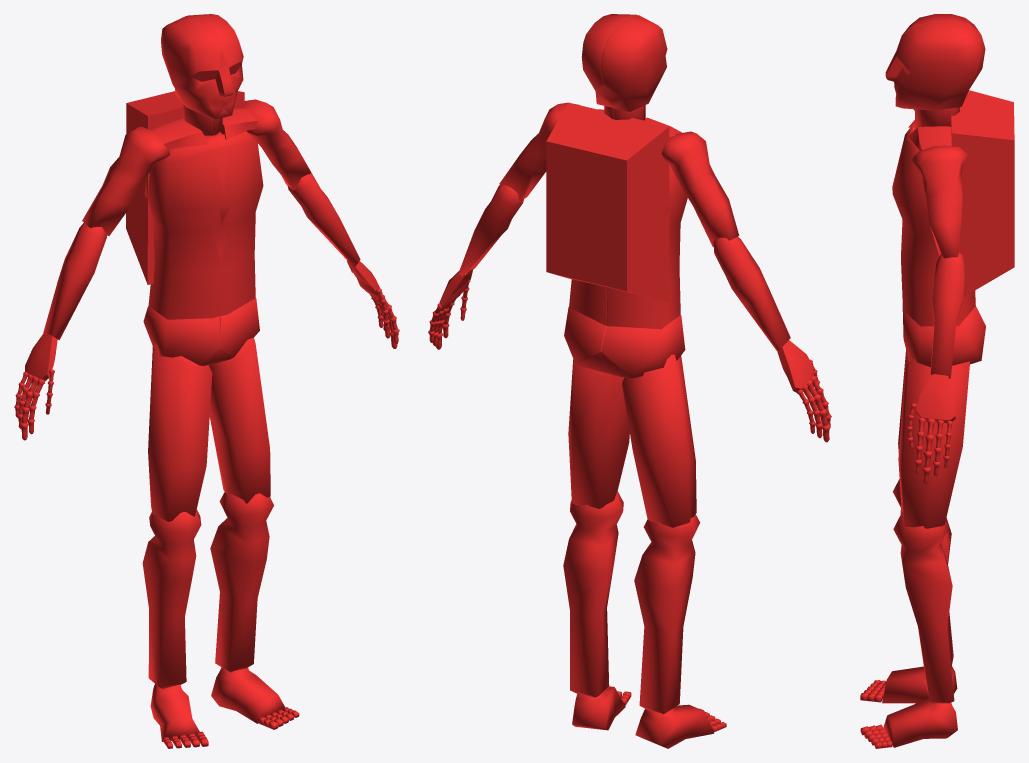
Rendered from Astronaut.fbx.
The picture shows the model from 3 angles, left to right: view 1: azimuth 30°, elevation 25°; view 2: azimuth 150°, elevation 25°; view 3: azimuth 270°, elevation 25°; orthographic projection. The views are drawn at different scales.
Visible parts, largest first — view 1: Astronaut; view 2: Astronaut; view 3: Astronaut.
Part boxes in pixels (left/top/right/bottom): Astronaut: left=14, top=14, right=399, bottom=748; Astronaut: left=428, top=14, right=831, bottom=748; Astronaut: left=860, top=14, right=1014, bottom=748.
Bounding box in the file's own units: 98.04 × 170 × 34.24.
